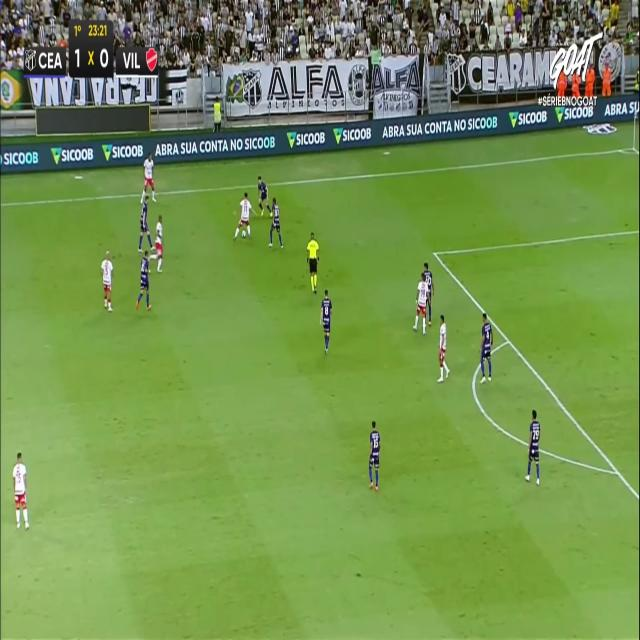ball: (242, 230, 247, 241)
player: (12, 451, 29, 530), (524, 409, 541, 484), (412, 268, 430, 333), (139, 192, 155, 256), (480, 312, 493, 383), (136, 249, 151, 310), (234, 191, 253, 239), (368, 419, 381, 488), (437, 314, 449, 382), (100, 249, 113, 310), (268, 196, 283, 248), (320, 288, 332, 353), (142, 153, 156, 204), (151, 214, 163, 271), (257, 175, 269, 217)
referee: (306, 230, 319, 291)
